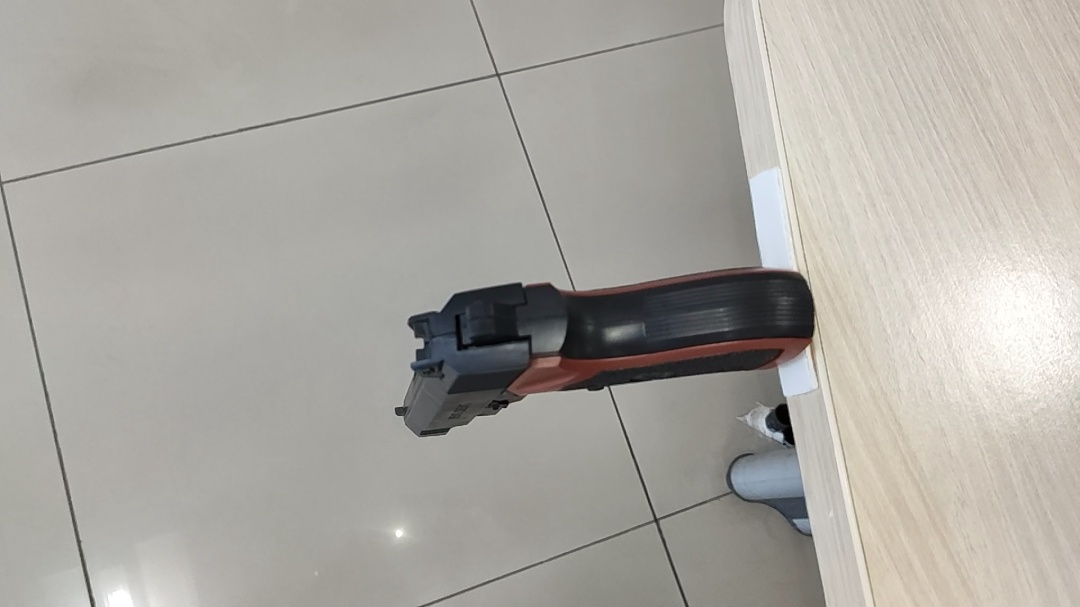gun: (390, 263, 817, 441)
